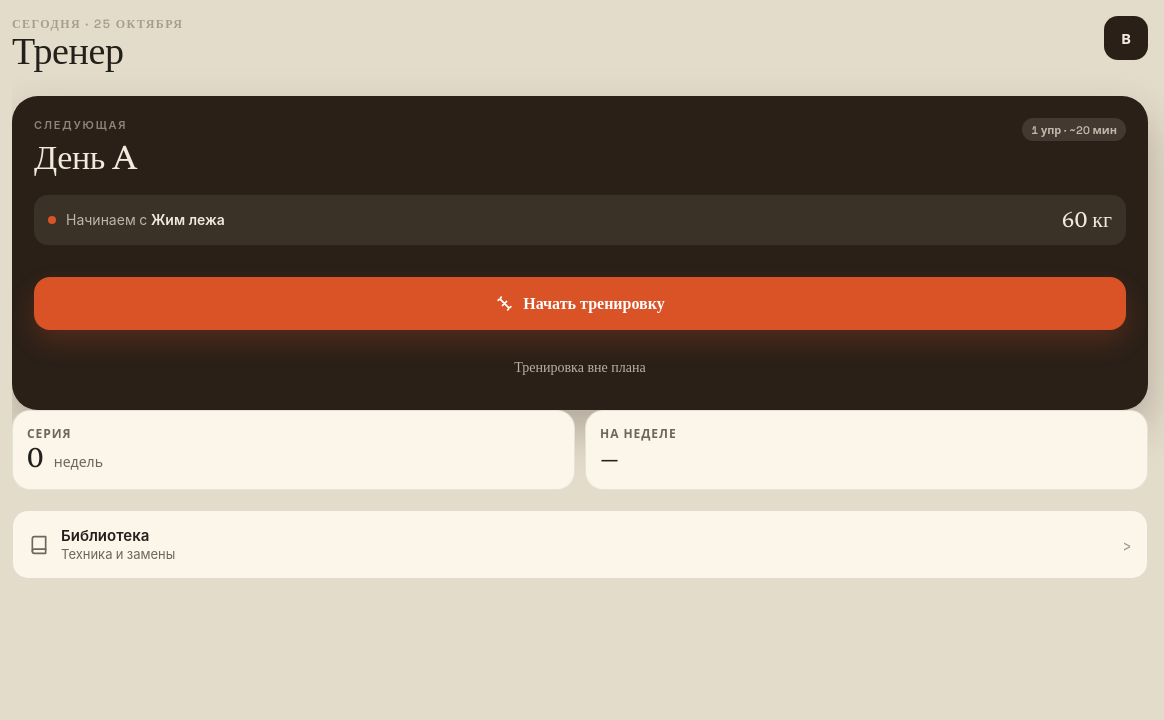
Test: CoachHome — profile avatar dropdown (#116) › switches profile and closes the menu when a different user is chosen
Click the button named "Профиль Вячеслав" at [1126, 38], box [1104, 16, 1148, 60]
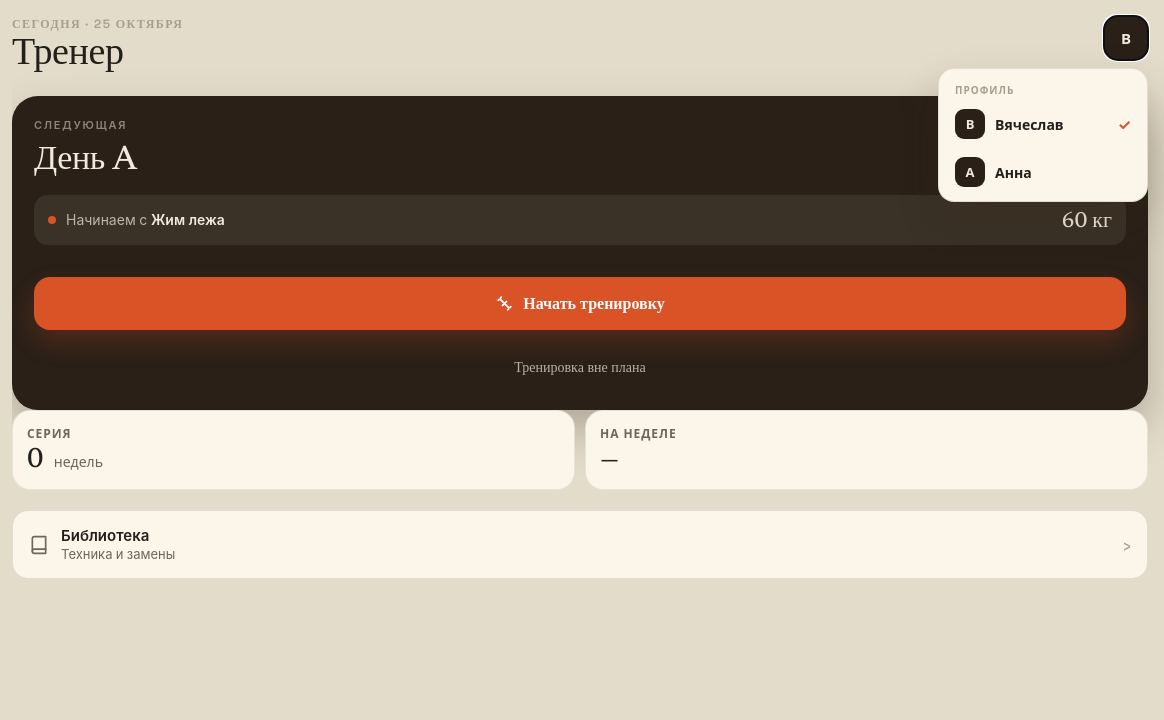
Click the menu item "А Анна" at [1043, 172], box [945, 149, 1141, 195]
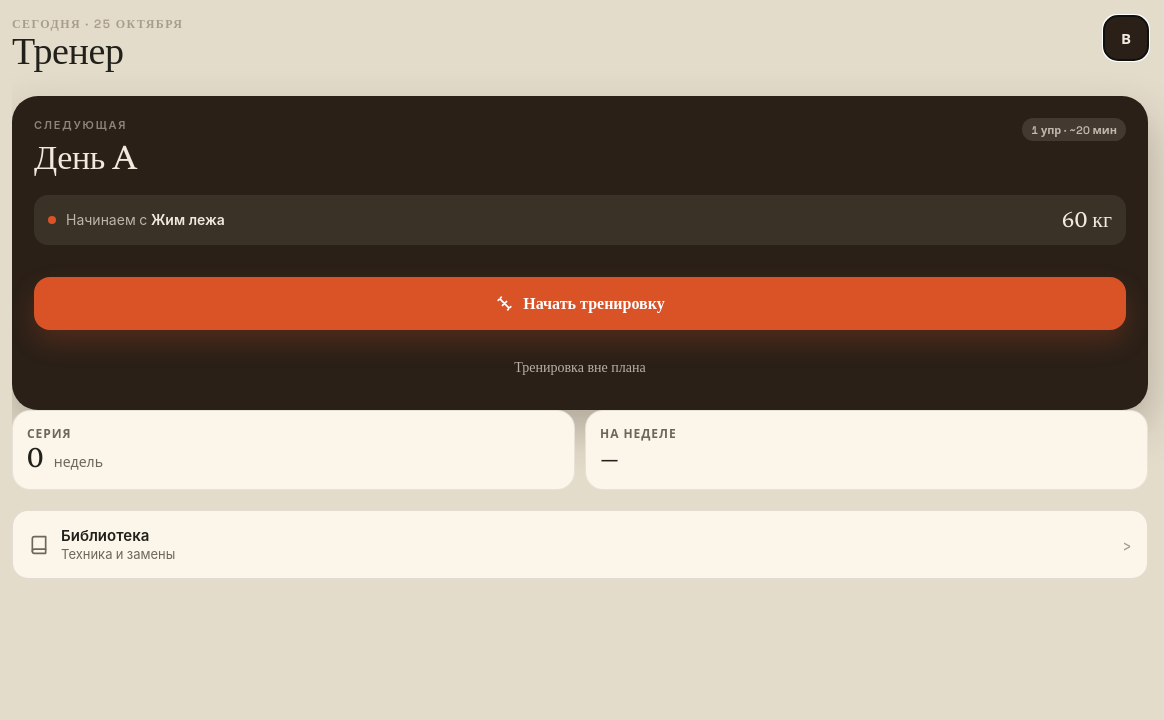
Expected: the menu is gone
